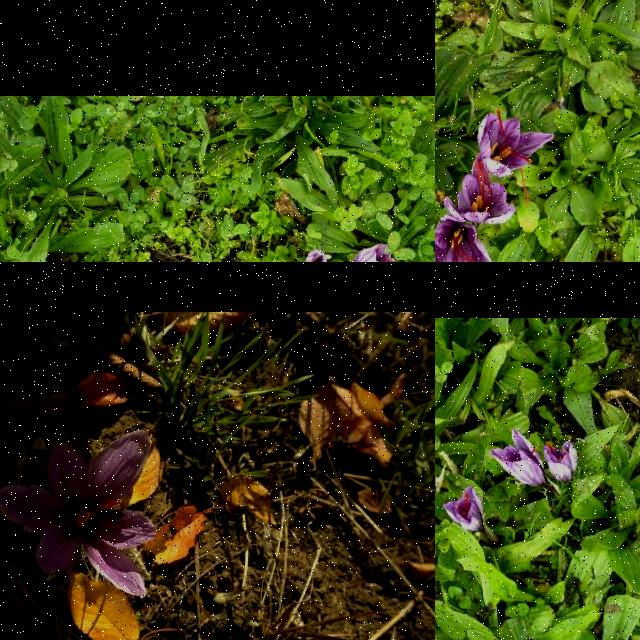flower: (0, 432, 158, 597), (478, 110, 556, 204), (443, 153, 517, 225), (489, 430, 546, 488), (435, 217, 495, 262), (442, 486, 488, 538), (546, 441, 580, 483), (351, 244, 395, 262), (306, 250, 330, 262)
